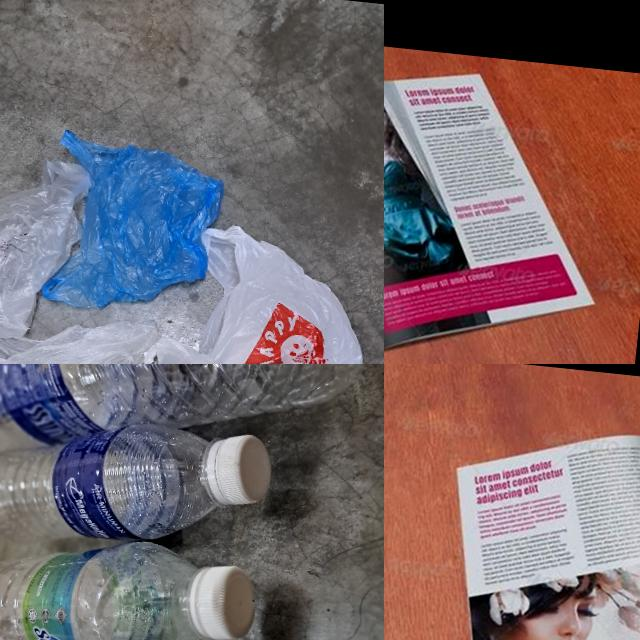garrafa plástica: (0, 364, 381, 480), (0, 403, 225, 561), (0, 525, 208, 640)
papel: (384, 34, 619, 364), (426, 374, 640, 640)
sacola plástica: (38, 129, 228, 323), (141, 217, 376, 364), (0, 149, 98, 345), (0, 306, 159, 364)
tampa plástica: (194, 562, 259, 640), (212, 432, 275, 508)
